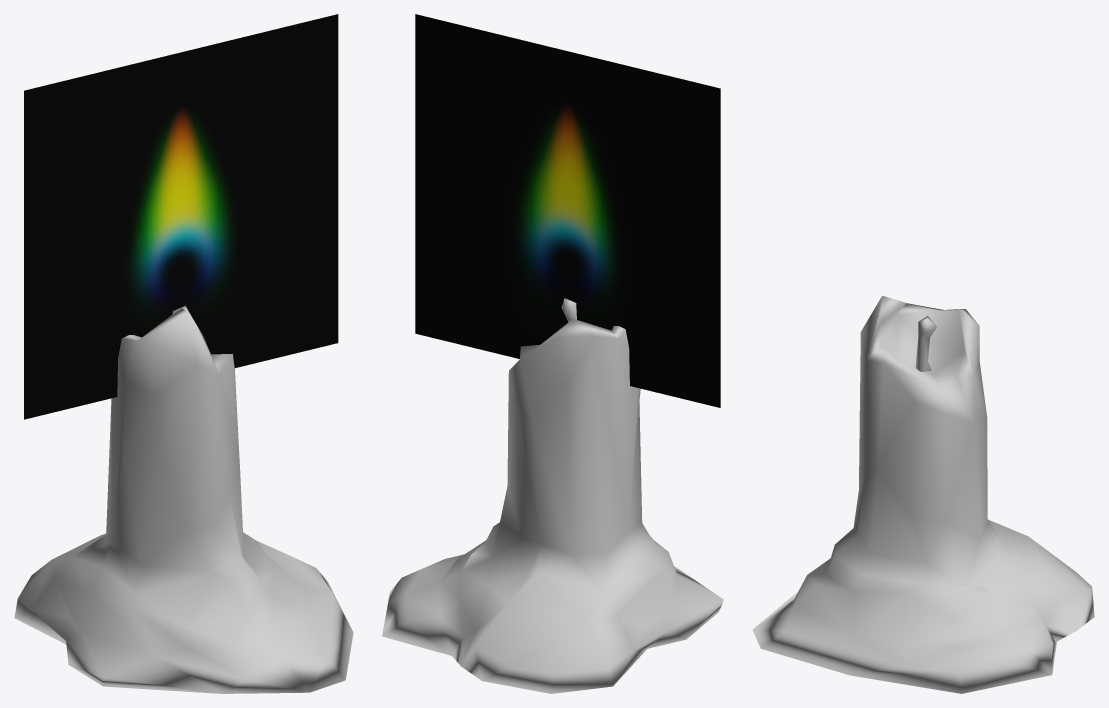
File: Candle_Mid.fbx
3 views of the same model, side by side, from view 1: azimuth 30°, elevation 25°; view 2: azimuth 150°, elevation 25°; view 3: azimuth 270°, elevation 25° (orthographic). The views are drawn at different scales.
Parts seen in each view (by area): view 1: Candle_Flame.001, Candle_Mid; view 2: Candle_Flame.001, Candle_Mid; view 3: Candle_Mid.
Boxes of the visible parts, bbox=[...] form: Candle_Flame.001: bbox=[24, 14, 338, 419]; Candle_Mid: bbox=[14, 306, 353, 693]; Candle_Flame.001: bbox=[415, 14, 720, 407]; Candle_Mid: bbox=[382, 298, 723, 693]; Candle_Mid: bbox=[752, 295, 1094, 693].
Size of the model in its own units: 30.76 by 53.32 by 30.82.
